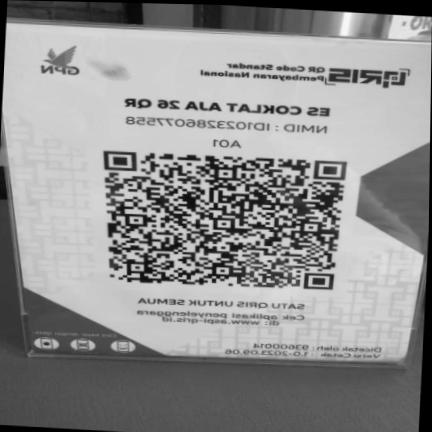Qris-Positioning: (2, 20, 432, 367)
